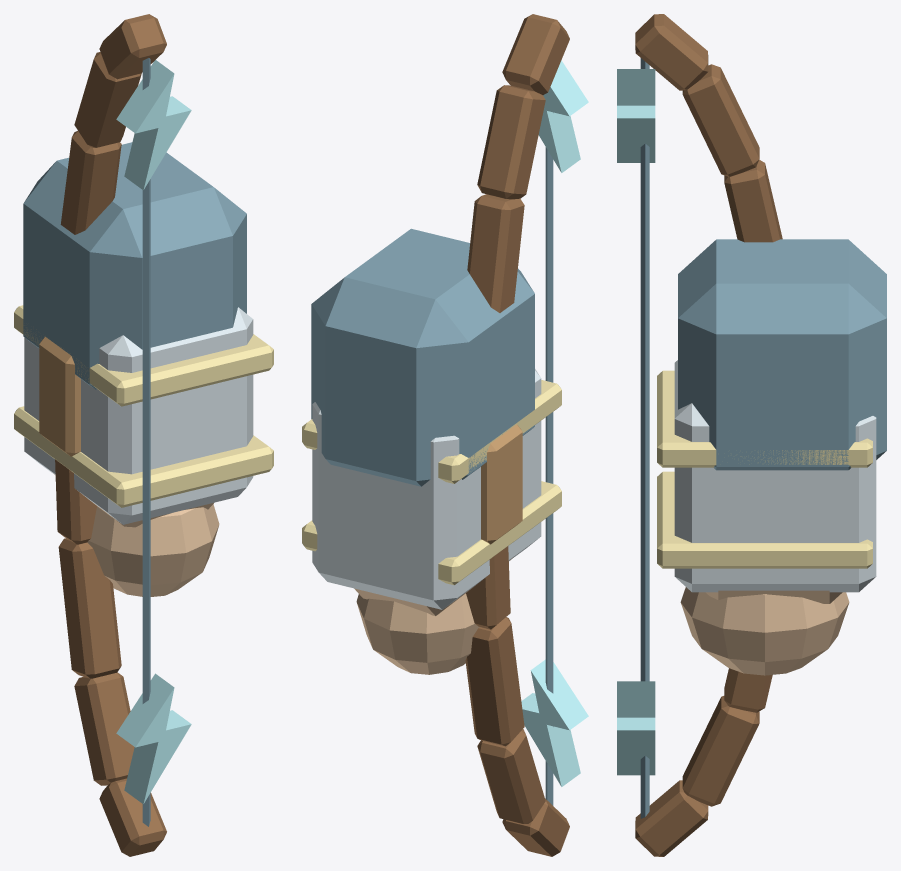
File: Storm_Archer_LeftArm.fbx
3 renders of one model, left to right at view 1: azimuth 30°, elevation 25°; view 2: azimuth 150°, elevation 25°; view 3: azimuth 270°, elevation 25°, orthographic.
Visible parts, largest first — view 1: Storm_Archer_LeftArm; view 2: Storm_Archer_LeftArm; view 3: Storm_Archer_LeftArm.
Part boxes in pixels (box(x1,y1,x2,y2)): Storm_Archer_LeftArm: box(14, 14, 273, 856); Storm_Archer_LeftArm: box(302, 14, 588, 856); Storm_Archer_LeftArm: box(617, 14, 886, 856).
Bounding box in the file's own units: 27 × 132 × 38.75.
